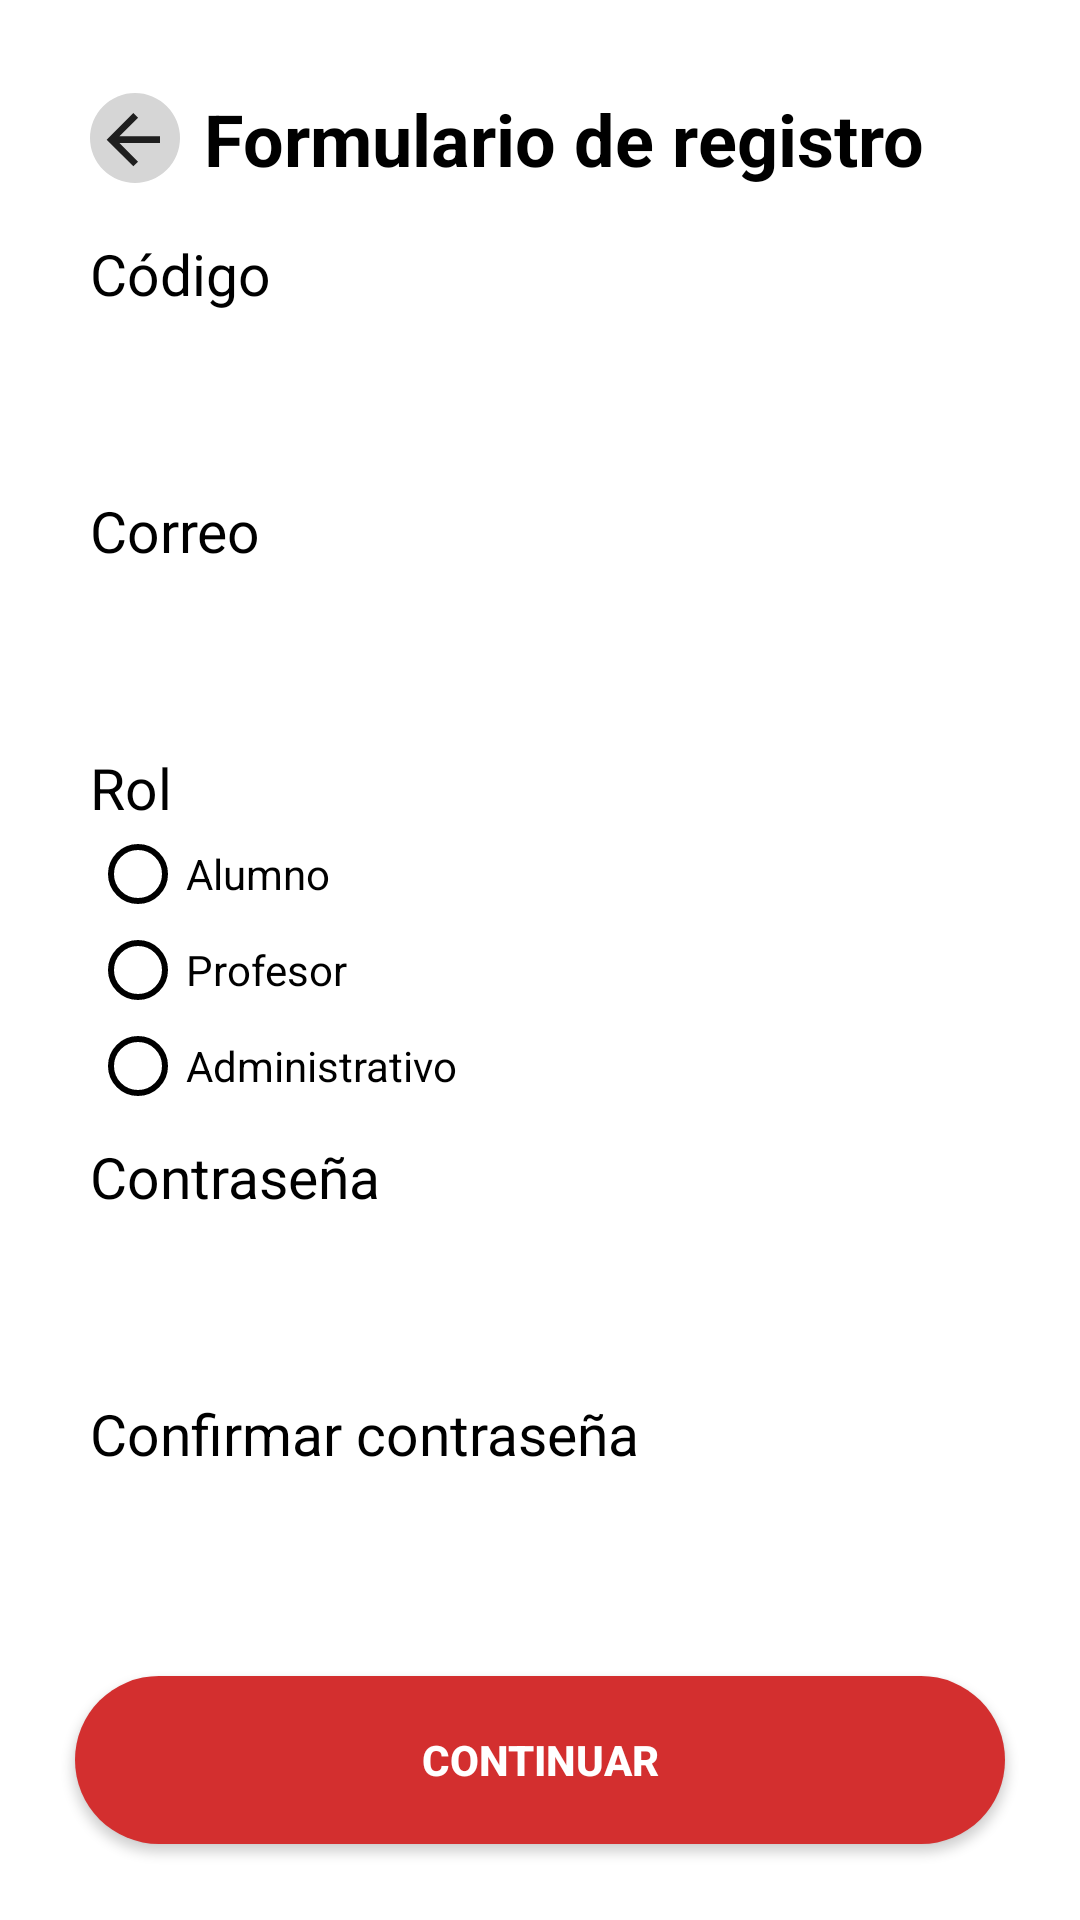

Screen size 1080px×1920px. Icon name, then its center in pixels as (x,y):
back arrow: (135,138)
